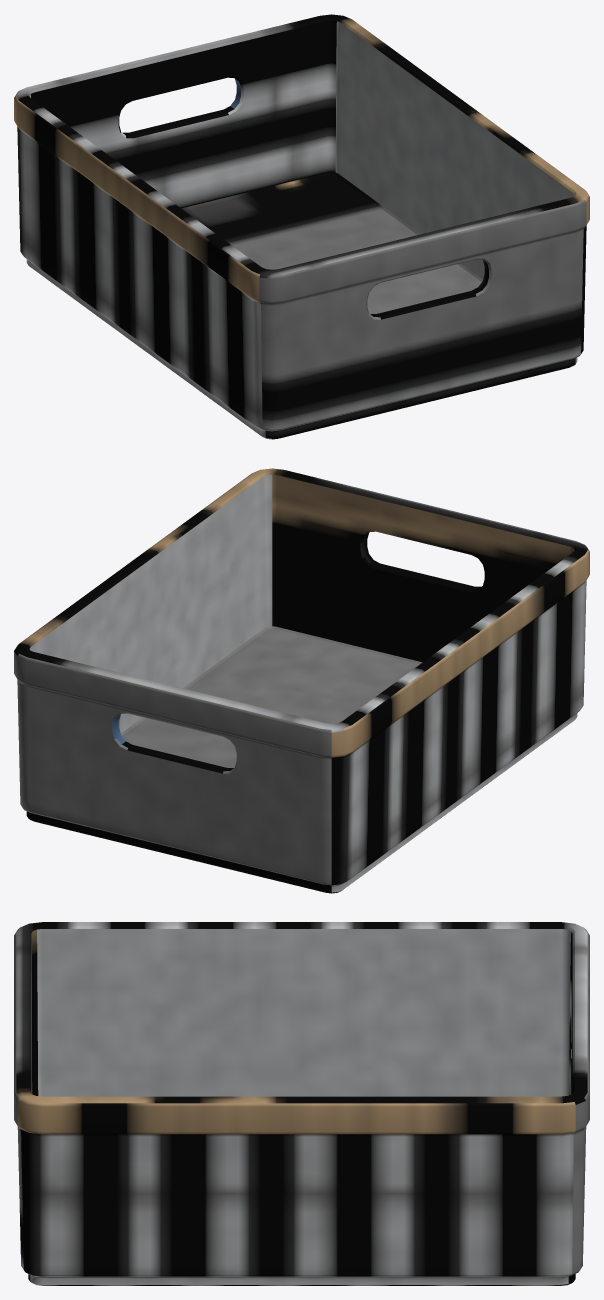
Rendered from SmallLoadCarrier_400x300x147.fbx.
3 renders of one model, top to bottom at view 1: azimuth 30°, elevation 25°; view 2: azimuth 150°, elevation 25°; view 3: azimuth 270°, elevation 25°, orthographic. The views are drawn at different scales.
Visible parts, largest first — view 1: SmallLoadCarrier_400x300x147_LOD0; view 2: SmallLoadCarrier_400x300x147_LOD0; view 3: SmallLoadCarrier_400x300x147_LOD0.
Part boxes in pixels (bbox=[...]): SmallLoadCarrier_400x300x147_LOD0: bbox=[14, 14, 589, 439]; SmallLoadCarrier_400x300x147_LOD0: bbox=[14, 468, 589, 893]; SmallLoadCarrier_400x300x147_LOD0: bbox=[14, 922, 589, 1285].
Size of what is drawn, in the model's own units: 0.304 by 0.147 by 0.404.
